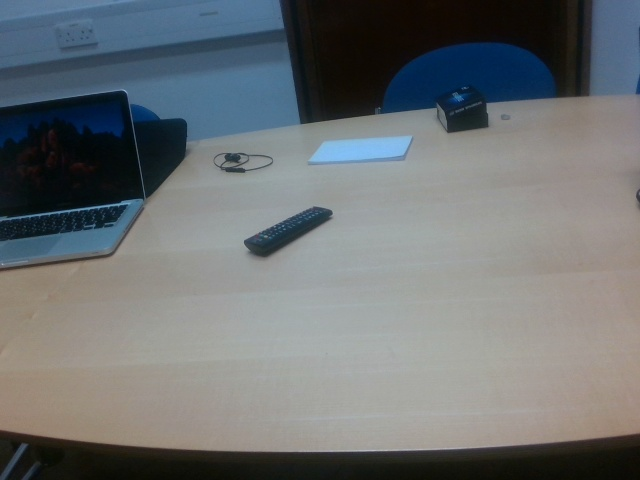remote: (245, 207, 335, 252)
